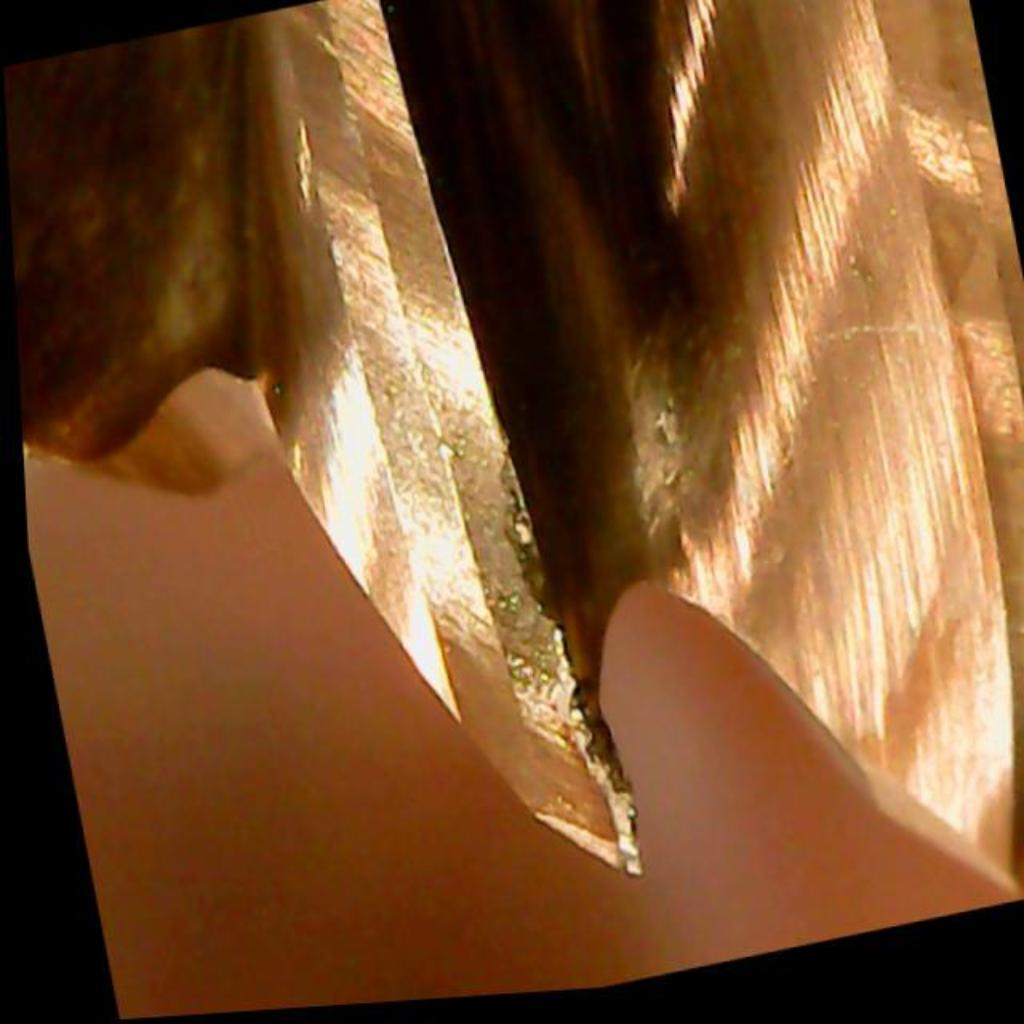Tool-wear-class-1: (360, 400, 667, 930)
